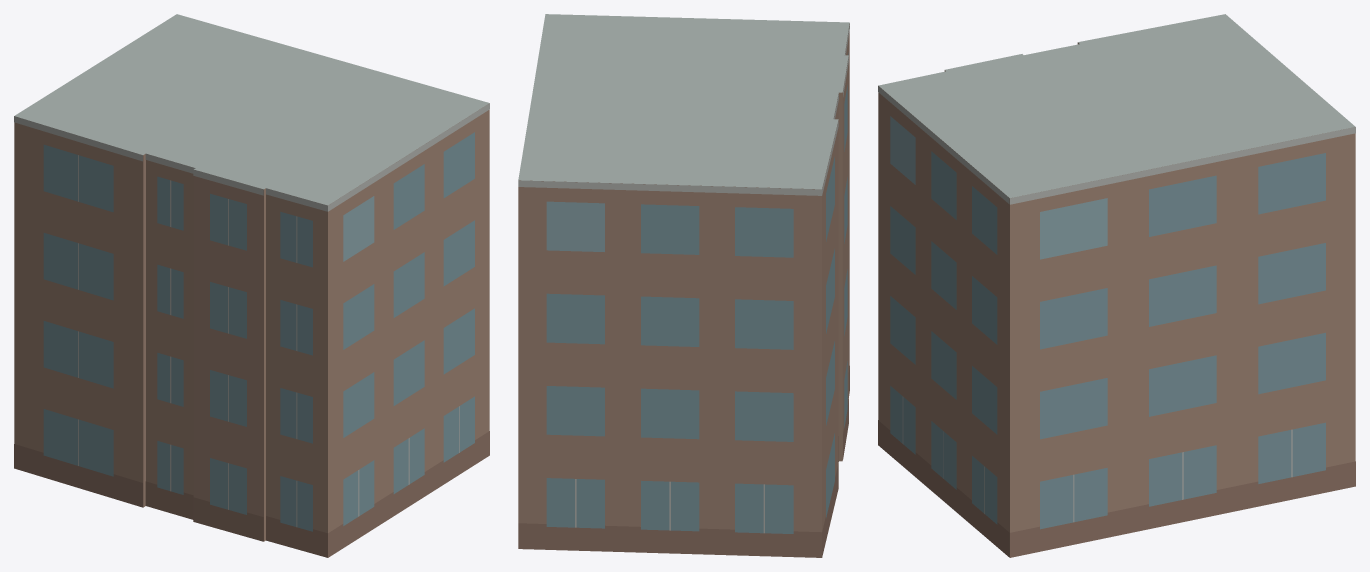
The model's file is survey-upis-32724074.glb.
The picture shows the model from 3 angles, left to right: view 1: azimuth 30°, elevation 25°; view 2: azimuth 150°, elevation 25°; view 3: azimuth 270°, elevation 25°; orthographic projection. The views are drawn at different scales.
Parts seen in each view (by area): view 1: survey-upis-32724074.tmp; view 2: survey-upis-32724074.tmp; view 3: survey-upis-32724074.tmp.
Boxes of the visible parts, x1,y1,x2,y2 form: survey-upis-32724074.tmp: (14, 14, 489, 557); survey-upis-32724074.tmp: (518, 14, 849, 557); survey-upis-32724074.tmp: (878, 14, 1355, 557).
Bounding box in the file's own units: 14.96 × 13.6 × 16.38.
